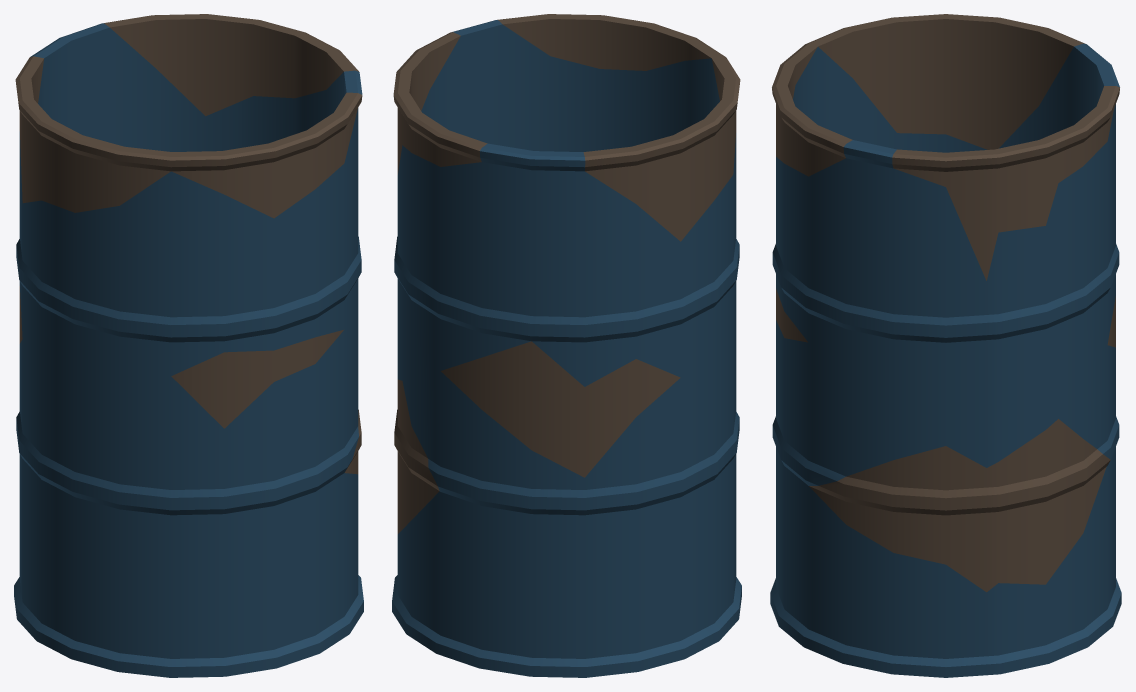
The model's file is prop_barrel.glb.
The picture shows the model from 3 angles, left to right: view 1: azimuth 30°, elevation 25°; view 2: azimuth 150°, elevation 25°; view 3: azimuth 270°, elevation 25°; orthographic projection.
Parts seen in each view (by area): view 1: Barrel.001; view 2: Barrel.001; view 3: Barrel.001.
Boxes of the visible parts, box(x1,y1,x2,y2) form: Barrel.001: box(14, 14, 363, 677); Barrel.001: box(392, 14, 741, 677); Barrel.001: box(770, 14, 1121, 677).
Bounding box in the file's own units: 0.7041 × 1.14 × 0.7041.
Materials: 1 (1 with a texture image).
